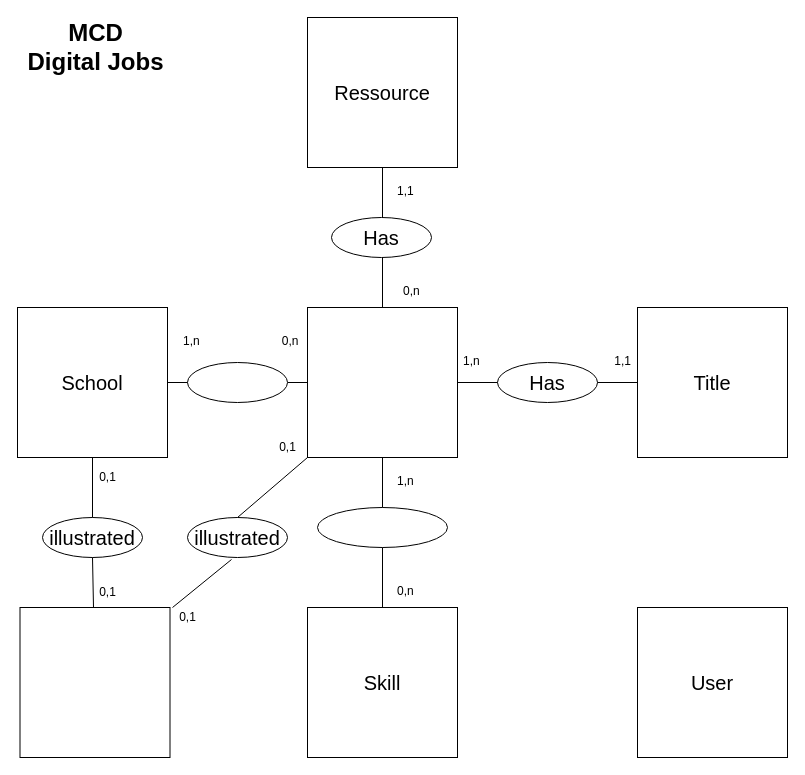
Some shapes in this 805 by 775 pixel diagram are drawn without their labels. Each missing label, with the box of its shape:
Job: (306, 306, 458, 458)
Picture: (19, 606, 170, 758)
Required: (316, 506, 448, 548)
Teaches: (186, 362, 288, 402)
